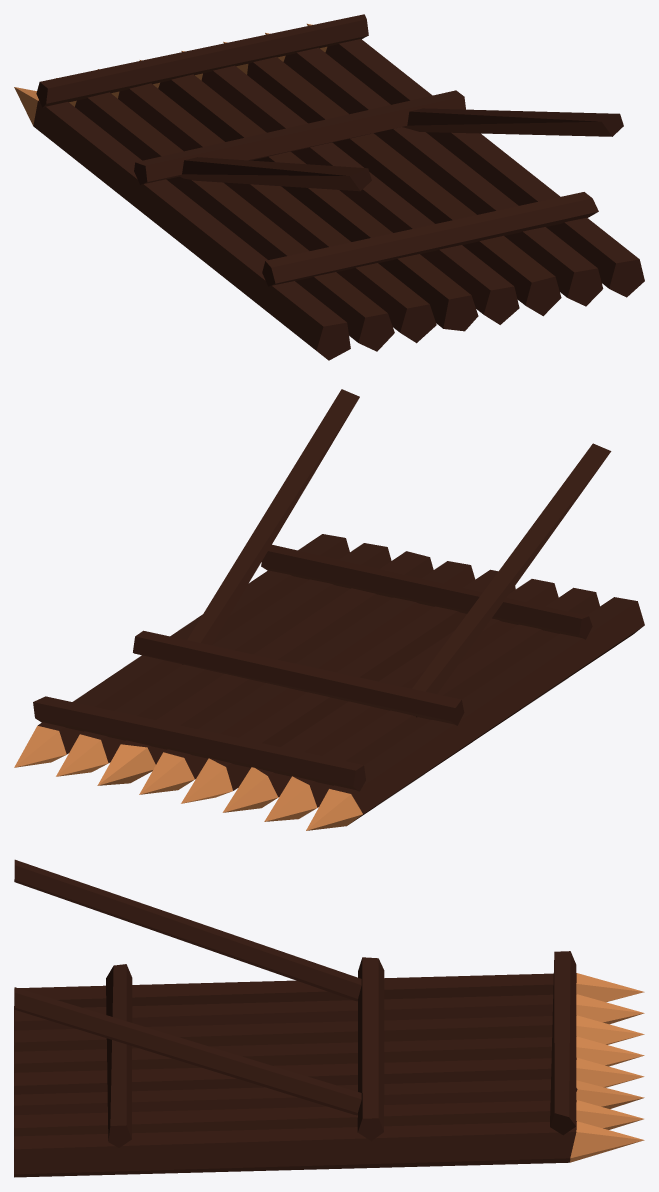
Rendered from barricada.glb.
3 renders of one model, top to bottom at view 1: azimuth 30°, elevation 25°; view 2: azimuth 150°, elevation 25°; view 3: azimuth 270°, elevation 25°, orthographic.
Parts seen in each view (by area): view 1: stockade1 v:136 f:125; view 2: stockade1 v:136 f:125; view 3: stockade1 v:136 f:125.
Boxes of the visible parts, x1,y1,x2,y2 form: stockade1 v:136 f:125: [14, 14, 644, 360]; stockade1 v:136 f:125: [14, 389, 644, 830]; stockade1 v:136 f:125: [14, 859, 644, 1177].
Bounding box in the file's own units: 3.34 × 1.85 × 5.61.
